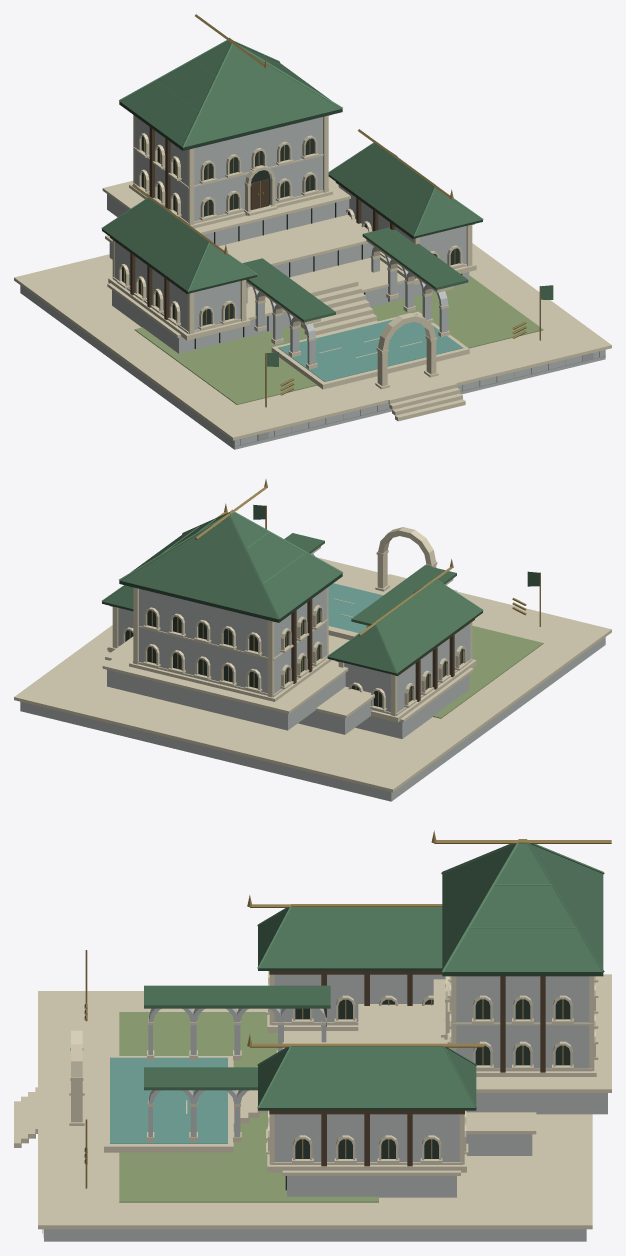
File: paddy.glb
The picture shows the model from 3 angles, top to bottom: view 1: azimuth 30°, elevation 25°; view 2: azimuth 150°, elevation 25°; view 3: azimuth 270°, elevation 25°; orthographic projection. The views are drawn at different scales.
Visible parts, largest first — view 1: sluice-courts, precinct-base, sluice-courts-roof, inhabited-detail; view 2: precinct-base, sluice-courts, sluice-courts-roof, inhabited-detail; view 3: sluice-courts, precinct-base, sluice-courts-roof, inhabited-detail.
Part boxes in pixels (bbox=[...]): sluice-courts: bbox=[102, 115, 476, 389]; precinct-base: bbox=[14, 243, 611, 449]; sluice-courts-roof: bbox=[101, 14, 483, 322]; inhabited-detail: bbox=[235, 285, 605, 446]; precinct-base: bbox=[14, 557, 611, 801]; sluice-courts: bbox=[102, 527, 476, 738]; sluice-courts-roof: bbox=[101, 479, 483, 675]; inhabited-detail: bbox=[253, 504, 540, 626]; sluice-courts: bbox=[69, 971, 611, 1197]; precinct-base: bbox=[38, 991, 592, 1241]; sluice-courts-roof: bbox=[144, 830, 611, 1110]; inhabited-detail: bbox=[14, 950, 87, 1236].
Size of the model in its own units: 23.5 by 13.87 by 25.34.
